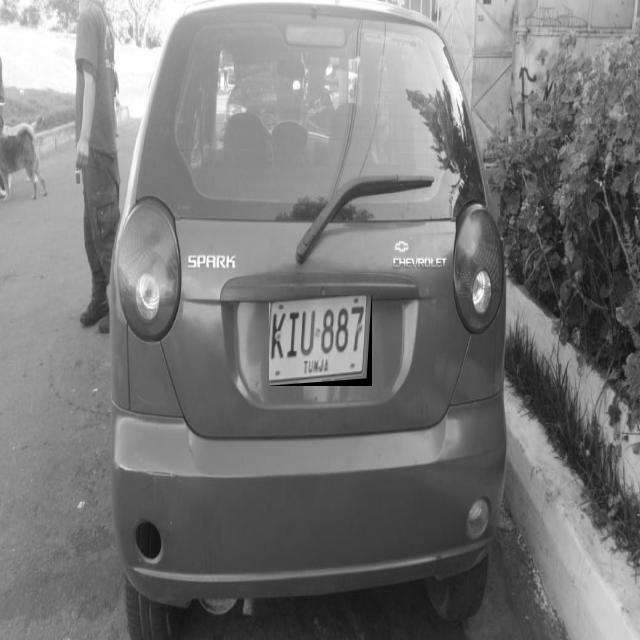plate: (269, 295, 372, 386)
